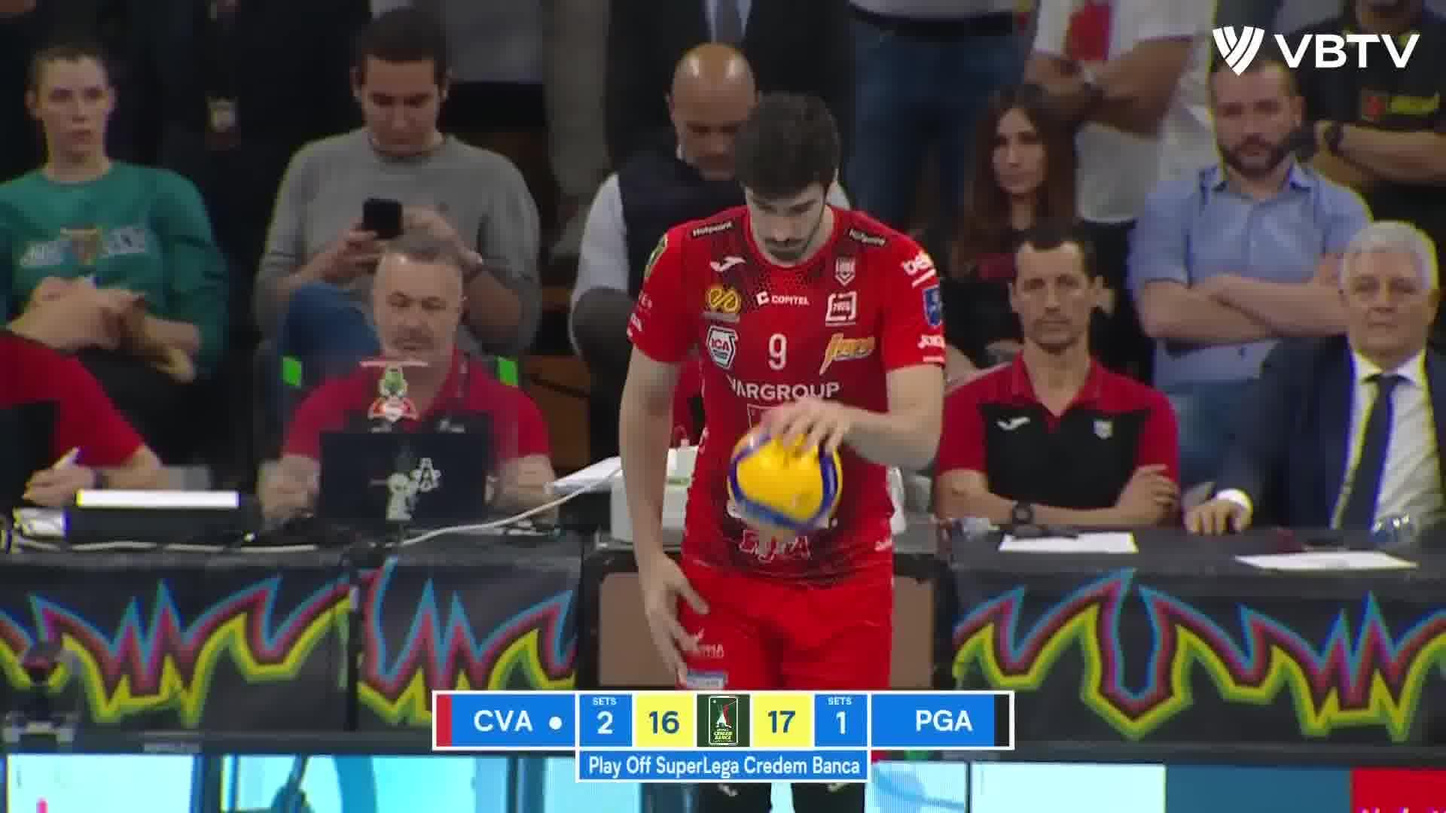balls: (726, 421, 847, 537)
